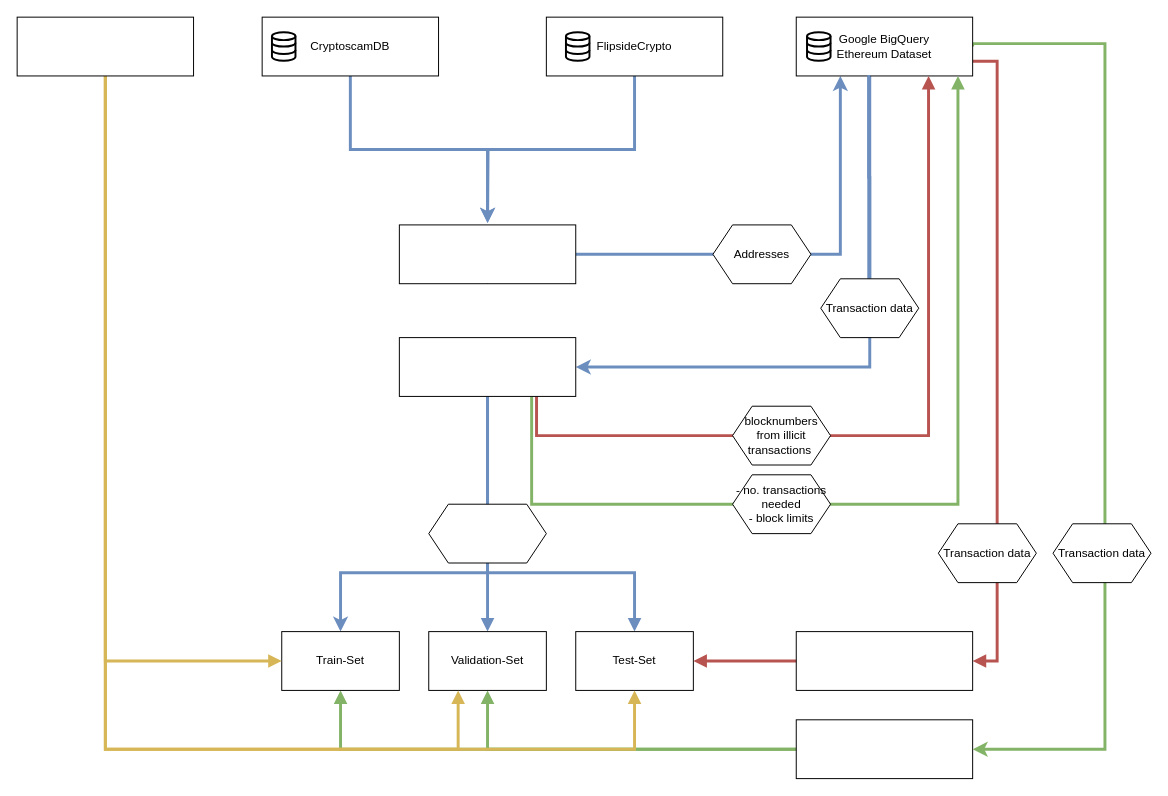
The diagram is 1168 pixels wide and 796 high, and some of its shapes have lost their labels. The centre of each missing label's shape, as x and y in pixels:
Divide adresses in 70/20/10: pixel 487 533
Historical price Ethereum: pixel 105 46
Illicit accounts dataset: pixel 487 254
Illicit Transactions Dataset: pixel 487 366
Random non-illicit transactions: pixel 884 749
Transactions based on Blocks: pixel 884 660
